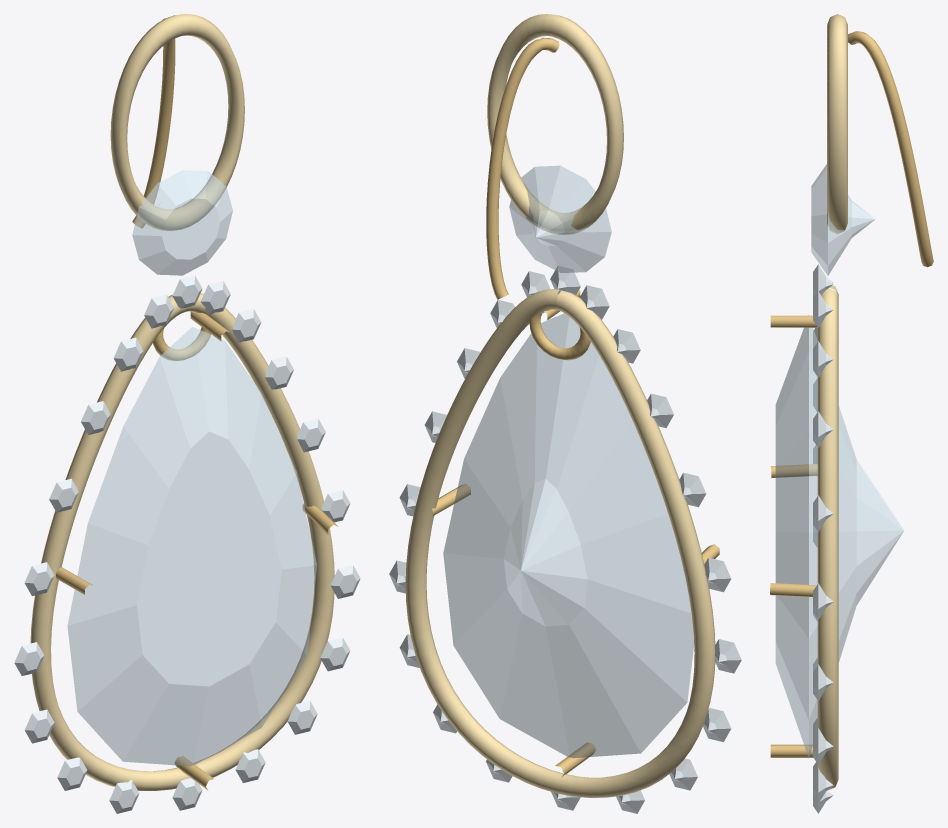
The model's file is diamond-earring.glb.
3 renders of one model, left to right at view 1: azimuth 30°, elevation 25°; view 2: azimuth 150°, elevation 25°; view 3: azimuth 270°, elevation 25°, orthographic. The views are drawn at different scales.
Parts seen in each view (by area): view 1: The Afterparty; view 2: The Afterparty; view 3: The Afterparty.
Part boxes in pixels (bbox=[...]): The Afterparty: bbox=[14, 14, 360, 813]; The Afterparty: bbox=[389, 14, 741, 813]; The Afterparty: bbox=[770, 14, 933, 813].
Size of the model in its own units: 0.0412 by 0.0894 by 0.0172.
